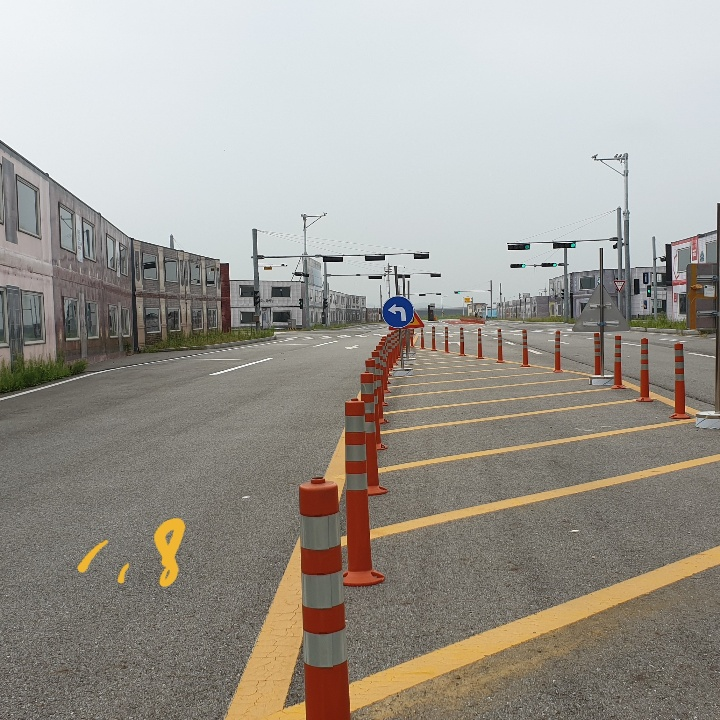left: (386, 302, 408, 324)
